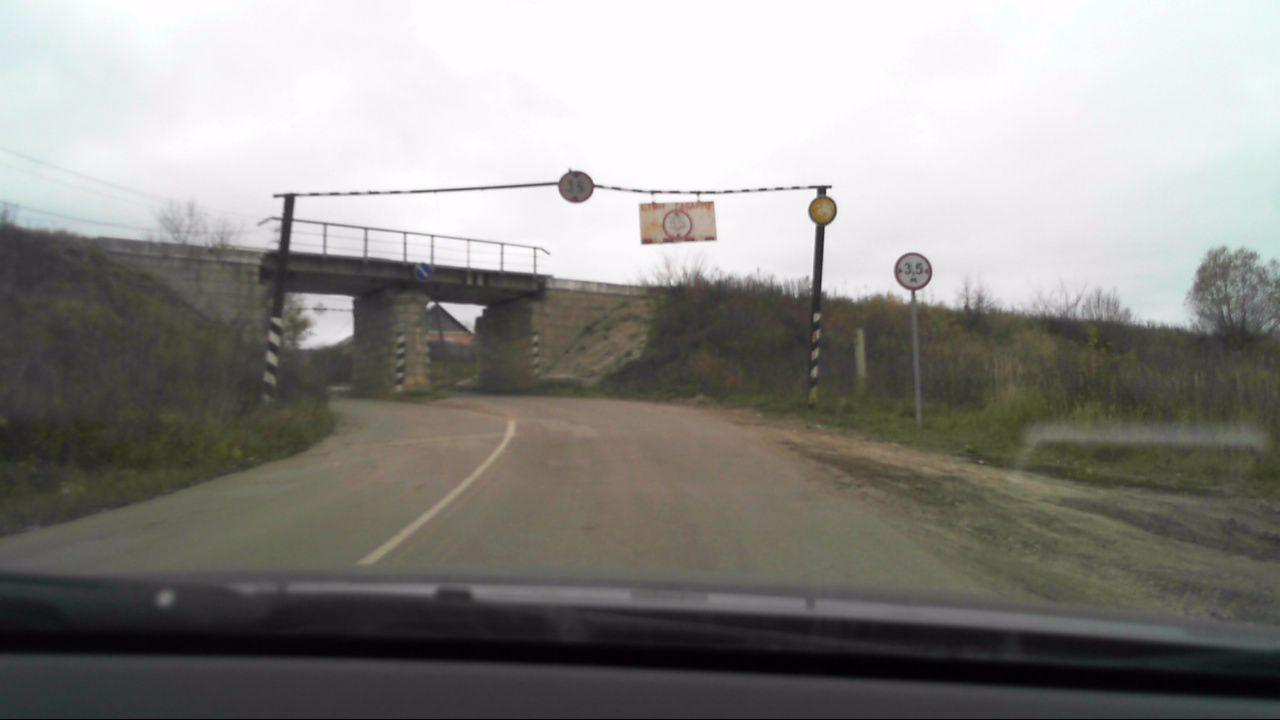3_14: (553, 170, 599, 206), (896, 252, 935, 292), (663, 210, 690, 244)
4_2_1: (413, 261, 435, 281)
